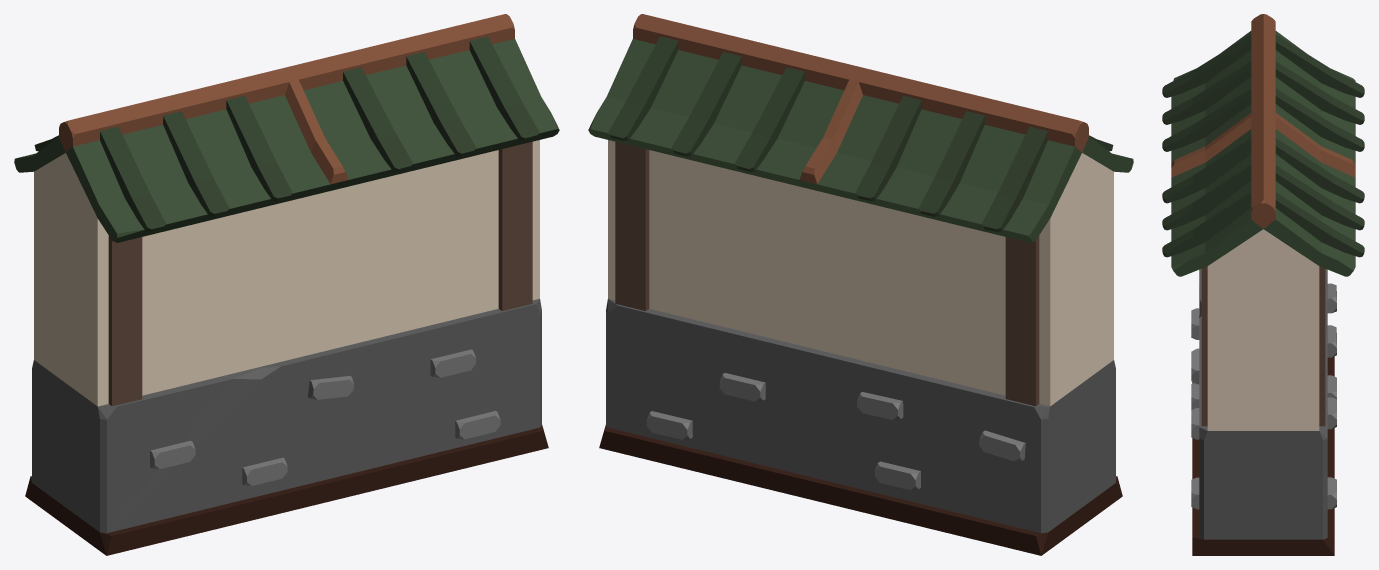
File: GardenWall_4 Asia.fbx
3 renders of one model, left to right at view 1: azimuth 30°, elevation 25°; view 2: azimuth 150°, elevation 25°; view 3: azimuth 270°, elevation 25°, orthographic. The views are drawn at different scales.
Visible parts, largest first — view 1: GardenWall_4; view 2: GardenWall_4; view 3: GardenWall_4.
Part boxes in pixels (<box>): GardenWall_4: <box>14,14,559,555</box>; GardenWall_4: <box>588,14,1133,555</box>; GardenWall_4: <box>1162,14,1364,555</box>.
Size of the model in its own units: 3.23 by 2.82 by 1.46.
